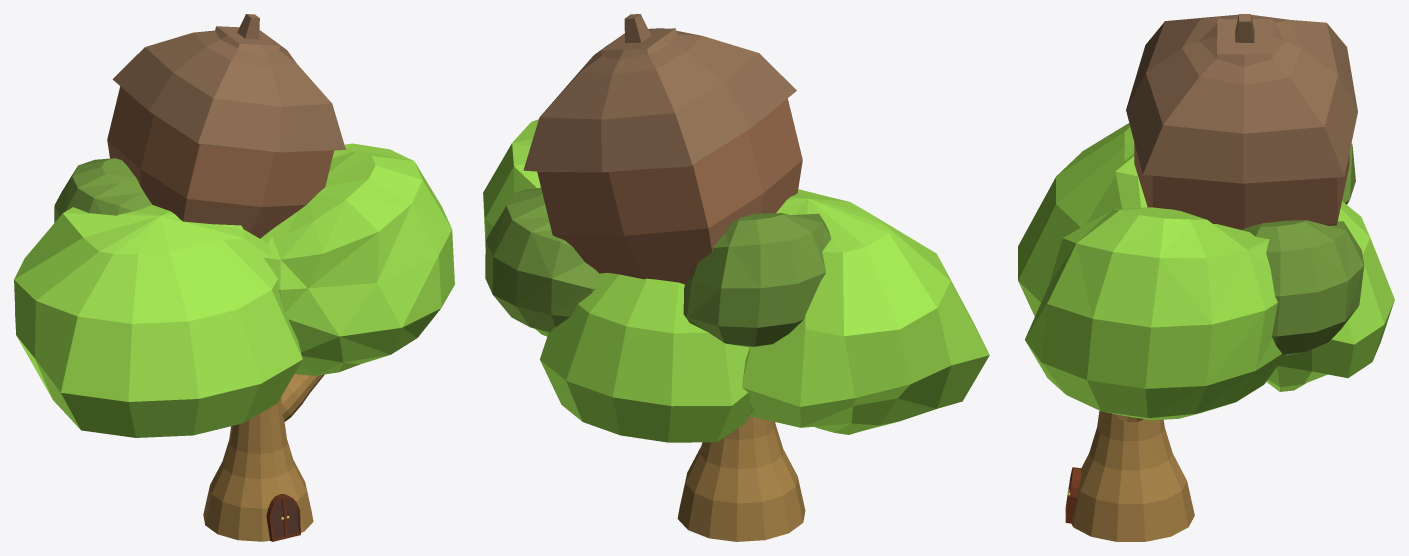
File: 도토리 나무.fbx
3 renders of one model, left to right at view 1: azimuth 30°, elevation 25°; view 2: azimuth 150°, elevation 25°; view 3: azimuth 270°, elevation 25°, orthographic. The views are drawn at different scales.
Parts seen in each view (by area): view 1: Sphere.010, 도토리머리.009, Sphere.009, Cylinder, Sphere.013, Cylinder.001, Circle.010, Circle.011; view 2: 도토리머리.009, Sphere.010, Sphere.011, Sphere.013, Cylinder, Sphere.012, Sphere.009; view 3: Sphere.009, 도토리머리.009, Cylinder, Sphere.012, Sphere.010, Sphere.011, Circle.011.
Boxes of the visible parts, box(x1,y1,x2,y2) form: Sphere.010: box(14, 205, 302, 437); 도토리머리.009: box(107, 14, 345, 238); Sphere.009: box(260, 143, 454, 375); Cylinder: box(203, 397, 313, 541); Sphere.013: box(54, 158, 152, 222); Cylinder.001: box(281, 374, 324, 421); Circle.010: box(266, 494, 286, 541); Circle.011: box(280, 494, 300, 538); 도토리머리.009: box(523, 14, 802, 284); Sphere.010: box(742, 189, 989, 434); Sphere.011: box(540, 273, 754, 442); Sphere.013: box(683, 213, 831, 346); Cylinder: box(677, 416, 805, 541); Sphere.012: box(485, 187, 599, 332); Sphere.009: box(483, 119, 548, 336); Sphere.009: box(1025, 207, 1285, 420); 도토리머리.009: box(1126, 14, 1357, 229); Cylinder: box(1071, 410, 1194, 541); Sphere.012: box(1241, 220, 1364, 355); Sphere.010: box(1018, 123, 1147, 316); Sphere.011: box(1266, 201, 1394, 391); Circle.011: box(1065, 468, 1081, 523).
Size of the model in its own units: 2428 by 2659 by 1731.
